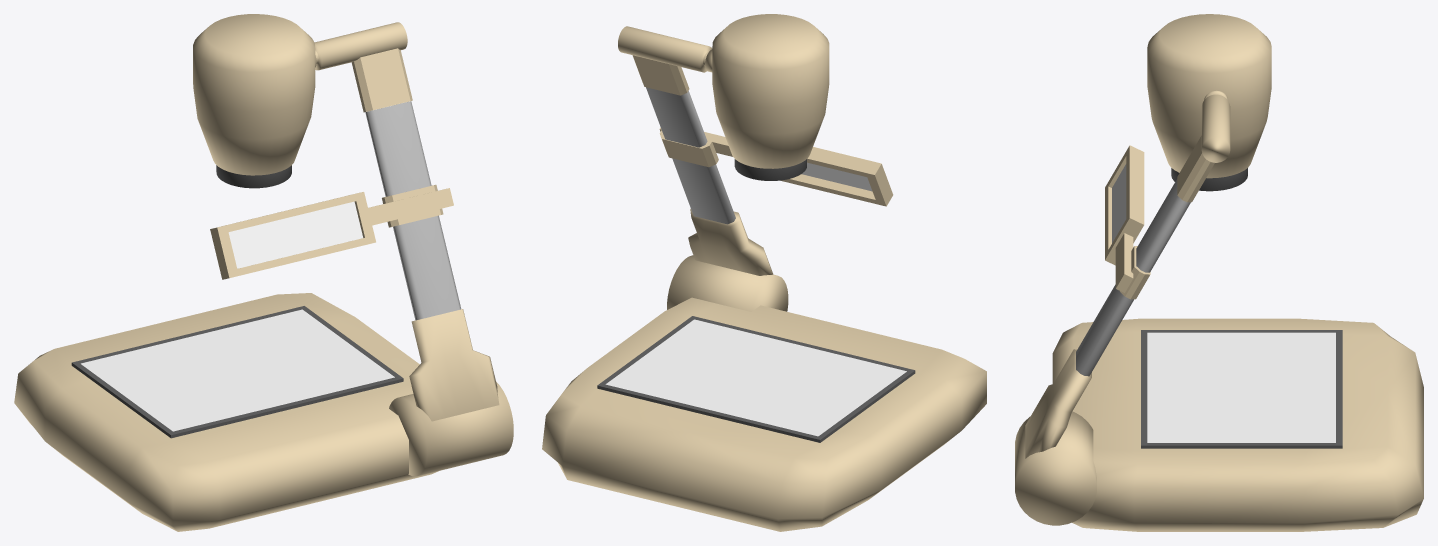
Rendered from csi_afis.fbx.
3 renders of one model, left to right at view 1: azimuth 30°, elevation 25°; view 2: azimuth 150°, elevation 25°; view 3: azimuth 270°, elevation 25°, orthographic. The views are drawn at different scales.
Parts seen in each view (by area): view 1: Cube, Cube.002, Cylinder.004, Cube.004, Cube.003, Cylinder, Cube.009, Cube.001, Cube.008, Cube.006, Cylinder.001, Cube.007 (+2 smaller); view 2: Cube, Cube.002, Cylinder.004, Cube.004, Cylinder, Cube.001, Cube.003, Cube.008, Cylinder.001, Cube.006, Cube.005, Cylinder.006 (+1 smaller); view 3: Cube, Cube.002, Cylinder.004, Cylinder, Cube.004, Cube.001, Cube.003, Cube.008, Cylinder.001, Cube.006, Cube.007, Cube.009 (+2 smaller).
Boxes of the visible parts, x1=… form: Cube: x1=14, y1=293, x2=438, y2=531; Cube.002: x1=81, y1=309, x2=394, y2=431; Cylinder.004: x1=193, y1=14, x2=315, y2=175; Cube.004: x1=365, y1=101, x2=461, y2=320; Cube.003: x1=409, y1=309, x2=499, y2=421; Cylinder: x1=389, y1=381, x2=513, y2=476; Cube.009: x1=228, y1=201, x2=363, y2=268; Cube.001: x1=71, y1=306, x2=403, y2=438; Cube.008: x1=210, y1=192, x2=375, y2=279; Cube.006: x1=351, y1=48, x2=412, y2=112; Cylinder.001: x1=314, y1=22, x2=407, y2=70; Cube.007: x1=368, y1=188, x2=453, y2=225; Cube: x1=542, y1=297, x2=986, y2=531; Cube.002: x1=605, y1=319, x2=906, y2=436; Cylinder.004: x1=712, y1=14, x2=829, y2=168; Cube.004: x1=646, y1=87, x2=735, y2=224; Cylinder: x1=667, y1=255, x2=788, y2=311; Cube.001: x1=597, y1=316, x2=915, y2=442; Cube.003: x1=688, y1=209, x2=773, y2=275; Cube.008: x1=781, y1=147, x2=893, y2=206; Cylinder.001: x1=618, y1=26, x2=712, y2=72; Cube.006: x1=632, y1=55, x2=689, y2=95; Cube.005: x1=659, y1=130, x2=718, y2=167; Cylinder.006: x1=734, y1=159, x2=806, y2=180; Cube: x1=1052, y1=318, x2=1423, y2=531; Cube.002: x1=1147, y1=332, x2=1335, y2=442; Cylinder.004: x1=1147, y1=14, x2=1271, y2=178; Cylinder: x1=1015, y1=411, x2=1096, y2=525; Cube.004: x1=1076, y1=179, x2=1190, y2=376; Cube.001: x1=1141, y1=330, x2=1342, y2=448; Cube.003: x1=1025, y1=349, x2=1091, y2=458; Cube.008: x1=1105, y1=145, x2=1144, y2=265; Cylinder.001: x1=1201, y1=94, x2=1230, y2=162; Cube.006: x1=1177, y1=135, x2=1214, y2=202; Cube.007: x1=1115, y1=233, x2=1133, y2=292; Cube.009: x1=1112, y1=164, x2=1126, y2=242.
Bounding box in the file's own units: 224 × 274 × 239.
